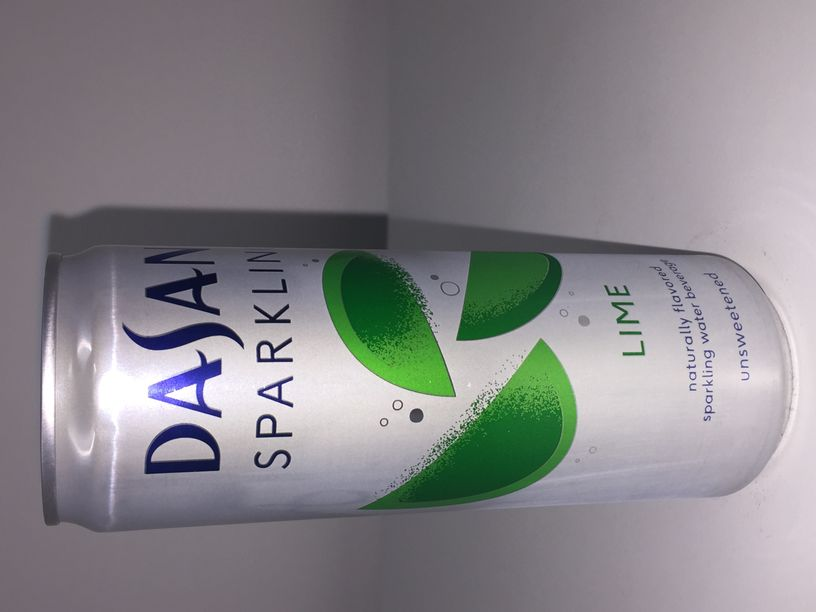lime: (37, 242, 795, 536)
